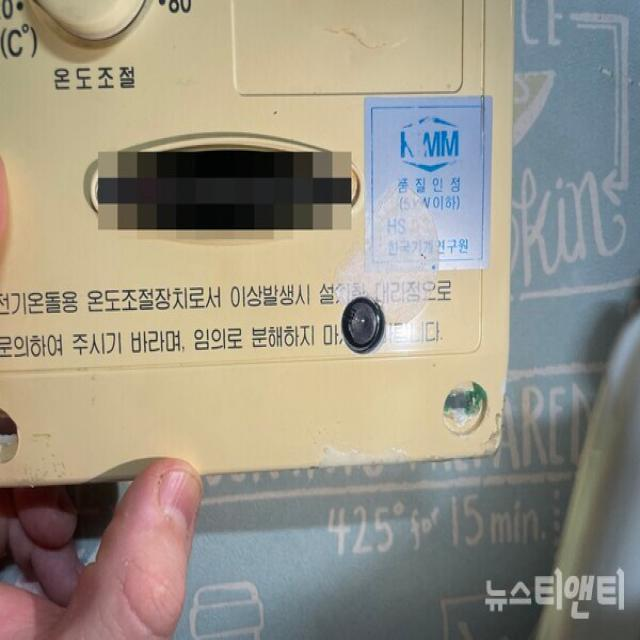hidden camera: (345, 301, 380, 351)
